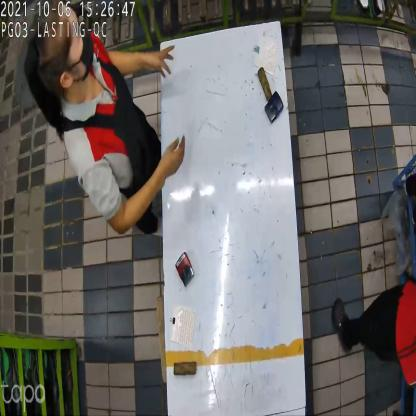stamp: (263, 90, 285, 123), (177, 247, 193, 282)
